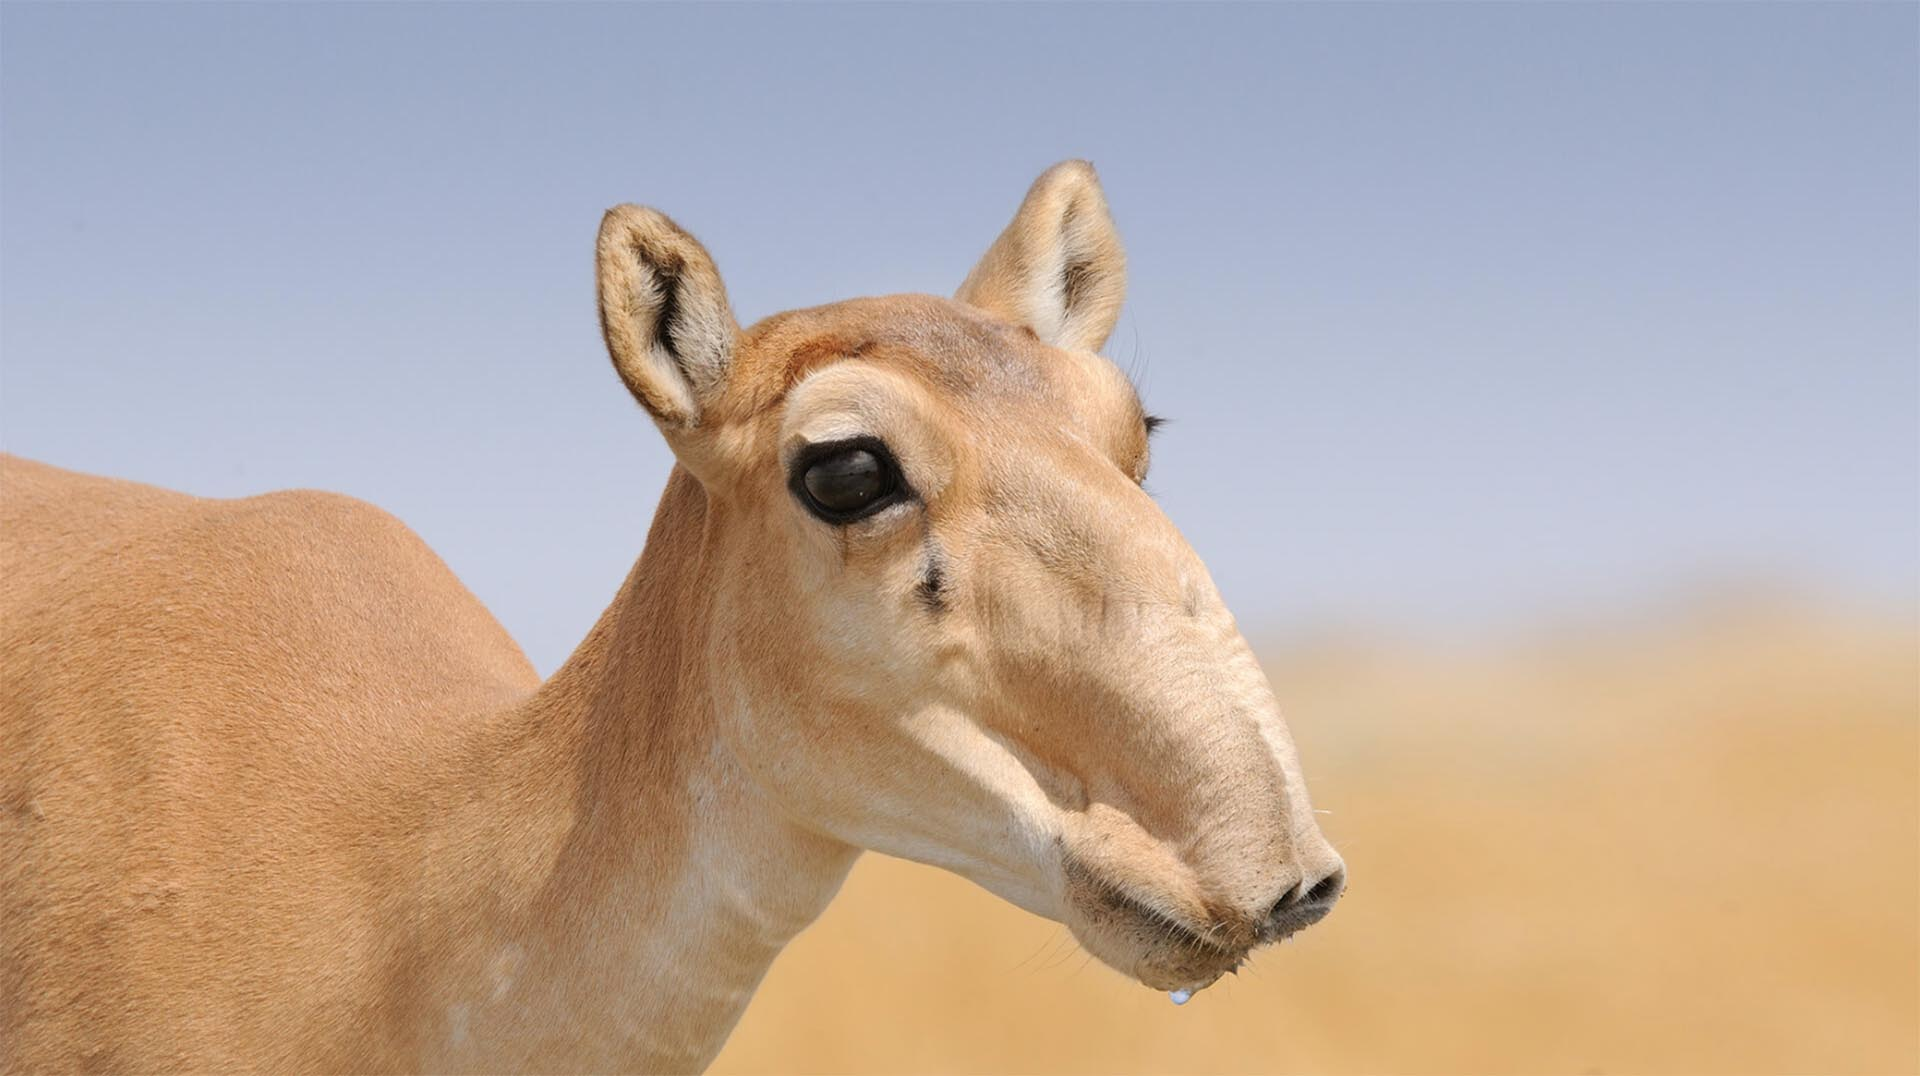saiga: (1, 158, 1353, 1076)
